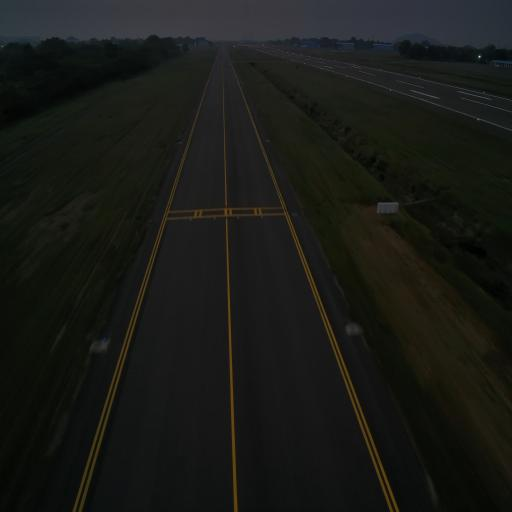off: (188, 216, 192, 224), (213, 215, 217, 222), (260, 213, 264, 220), (237, 214, 240, 220)
on: (347, 322, 353, 332), (102, 336, 106, 346), (266, 137, 268, 141), (180, 139, 182, 142)
